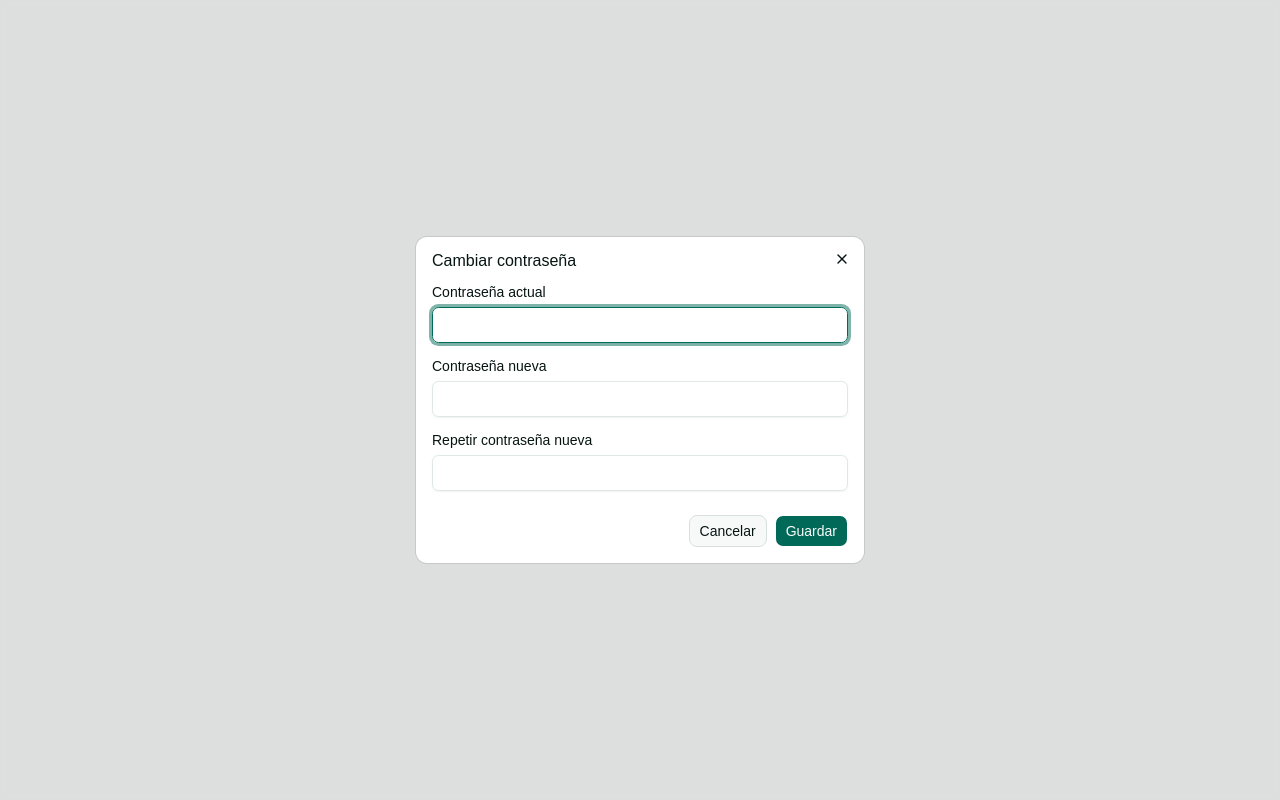
validación (sin tocar la API) › contraseñas que no coinciden
Type "actual-123" into the password field labelled "Contraseña actual" at [640, 325], box x1=432 y1=307 x2=848 y2=343
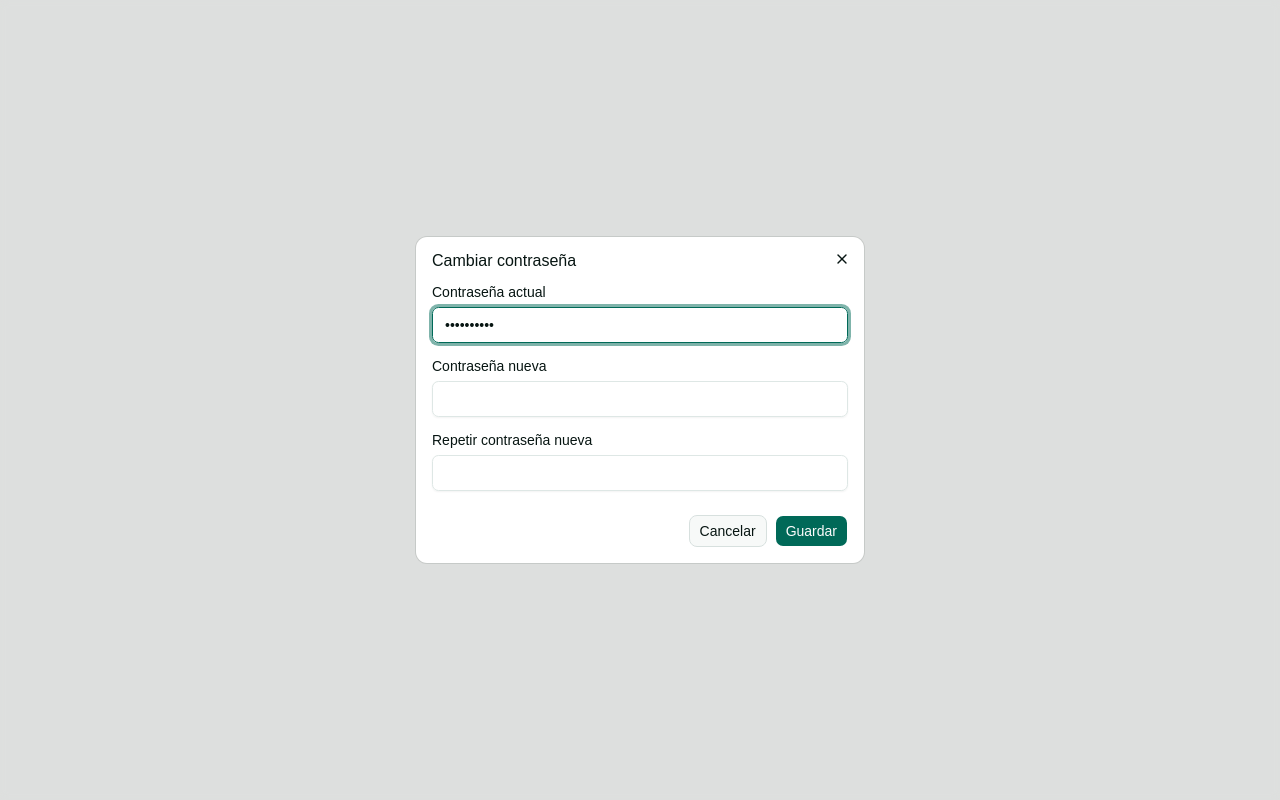
Type "nueva-segura-1" into the password field labelled "Contraseña nueva" at [640, 399], box x1=432 y1=381 x2=848 y2=417
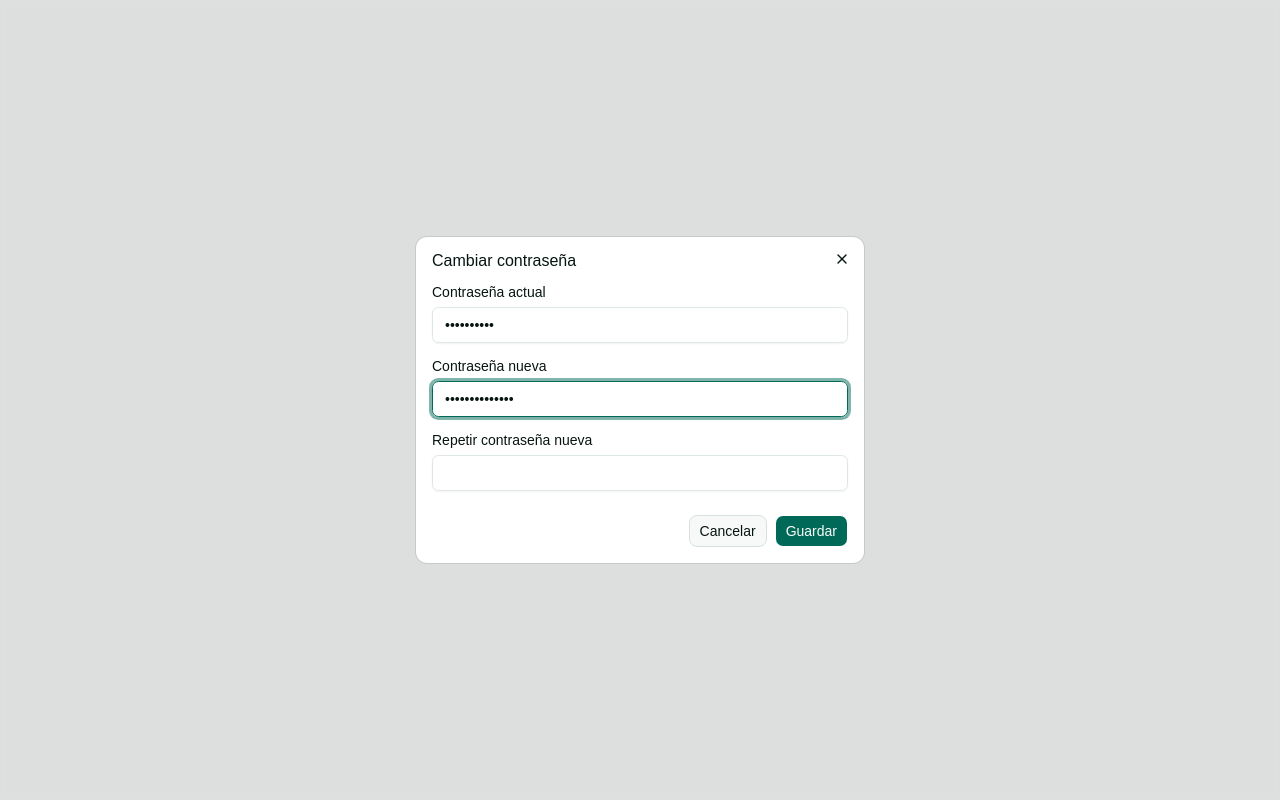
Type "nueva-segura-2" into the password field labelled "Repetir contraseña nueva" at [640, 473], box x1=432 y1=455 x2=848 y2=491
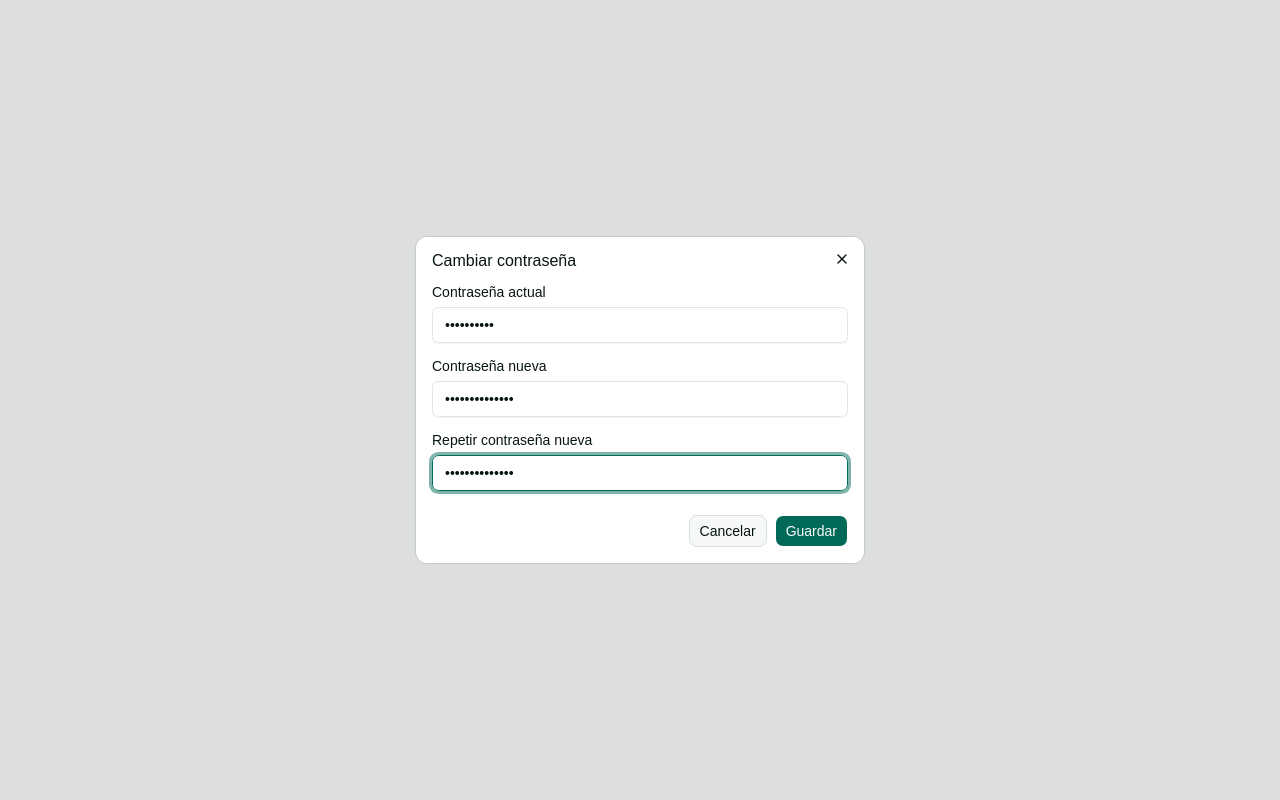
Click the button "Guardar" at [811, 531], box x1=775 y1=515 x2=848 y2=547
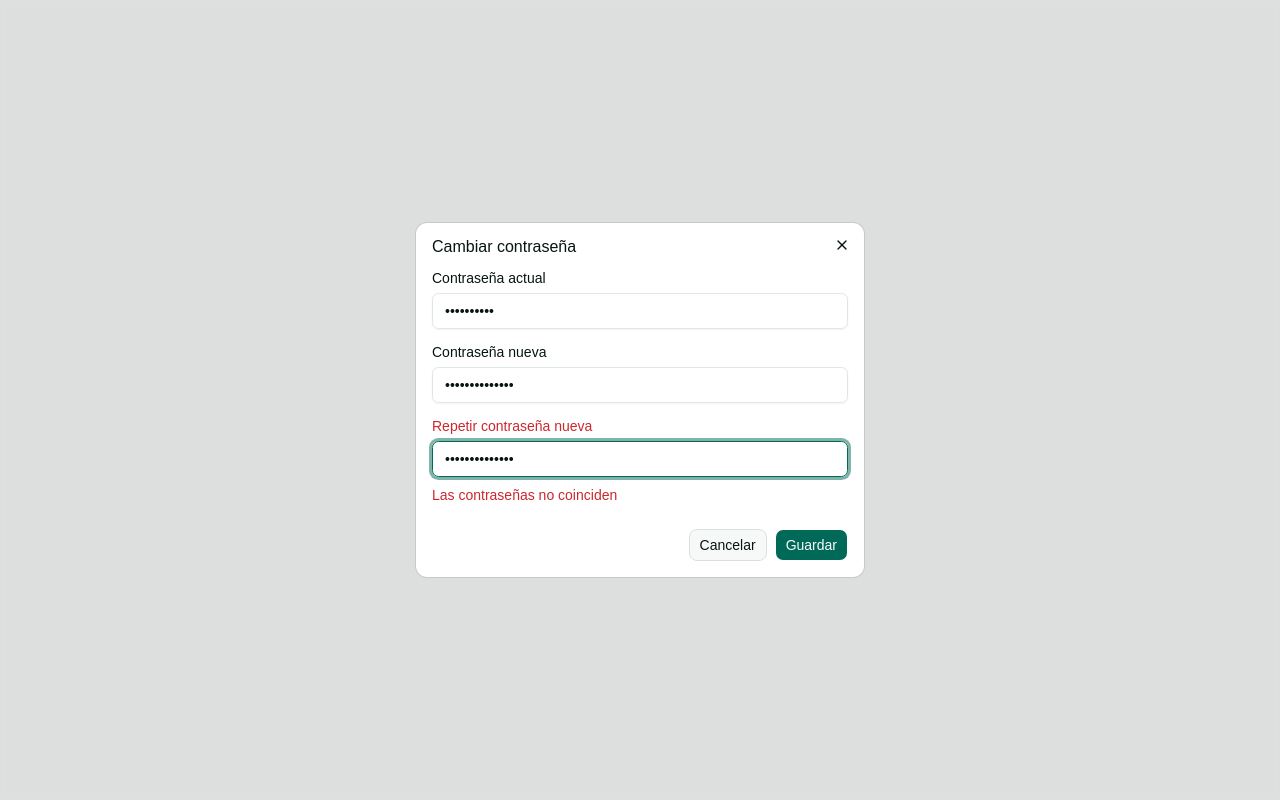
Now the text "Las contraseñas no coinciden" is shown, box x1=432 y1=487 x2=617 y2=503
